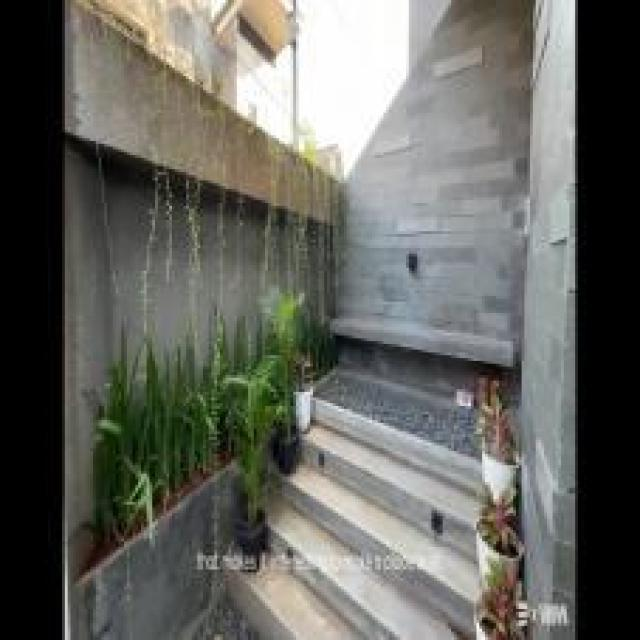upstair: (317, 404, 469, 638)
